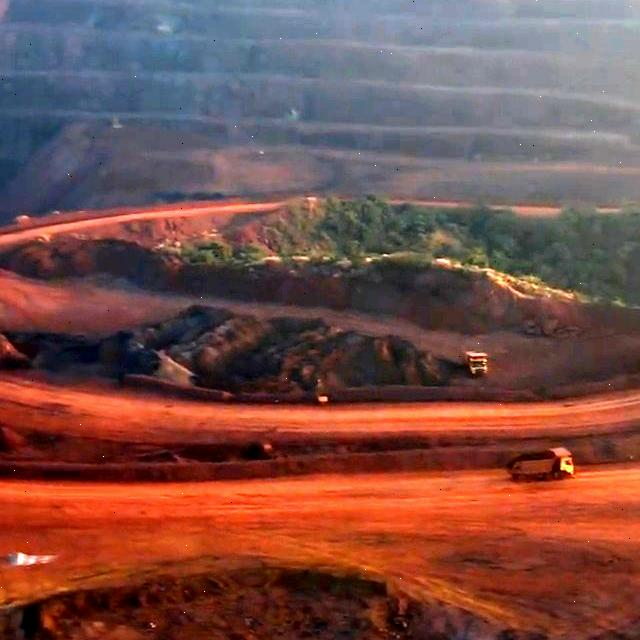Dumper truck: (505, 448, 573, 483), (463, 348, 490, 376)
